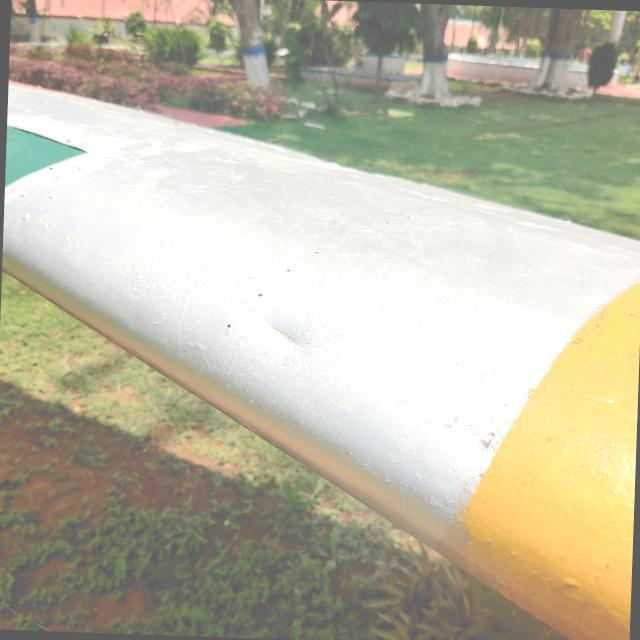dent: (218, 268, 328, 368)
